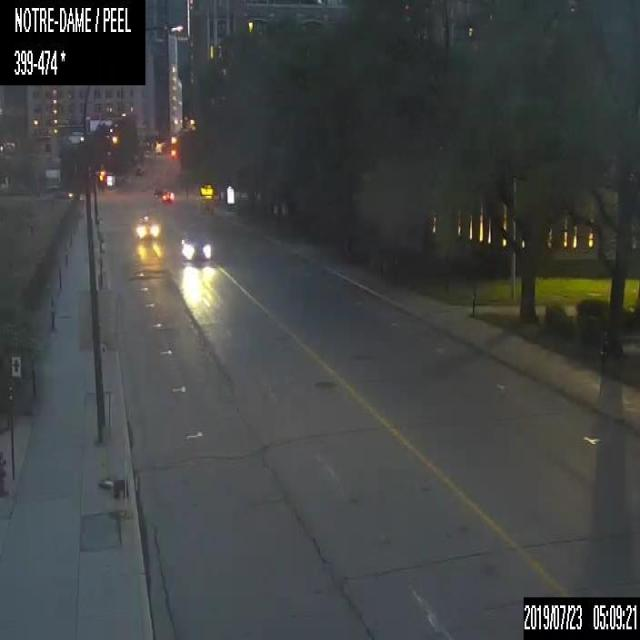construction: (199, 183, 214, 212)
vehicle: (179, 228, 212, 260), (130, 211, 161, 241), (153, 187, 167, 198), (162, 190, 172, 201)
